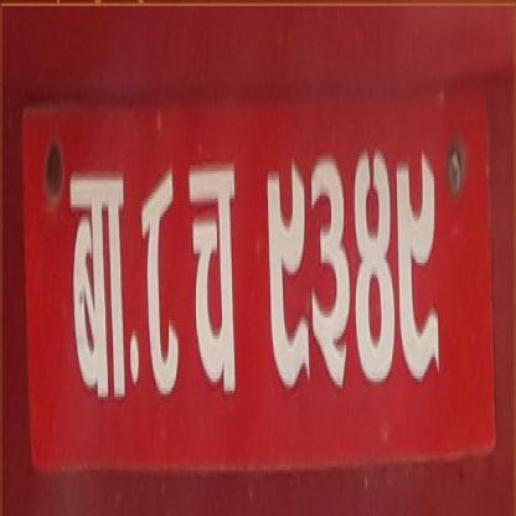3: (310, 135, 352, 401)
4: (352, 125, 396, 433)
8: (138, 159, 184, 422)
9: (396, 129, 444, 401), (265, 141, 312, 407)
ba: (65, 144, 127, 424)
cha: (187, 146, 243, 449)
